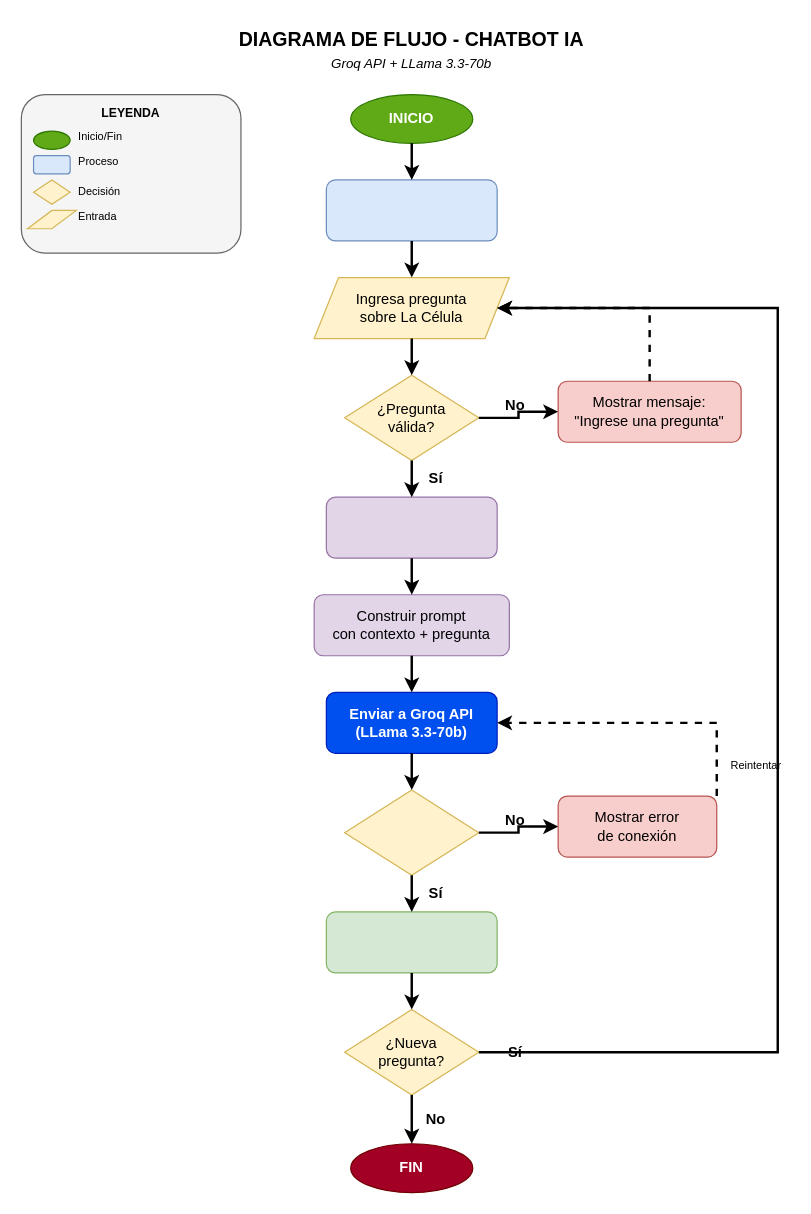
Image size: 811x1214. Some labels were removed from this diagram. Each missing label, with the centre of its shape:
"Mostrar respuesta en el chat" belongs at (x=411, y=942).
"Obtener contexto educativo (La Célula)" belongs at (x=411, y=527).
"Usuario abre pantalla Chat" belongs at (x=411, y=210).
"¿Respuesta exitosa?" belongs at (x=411, y=832).
